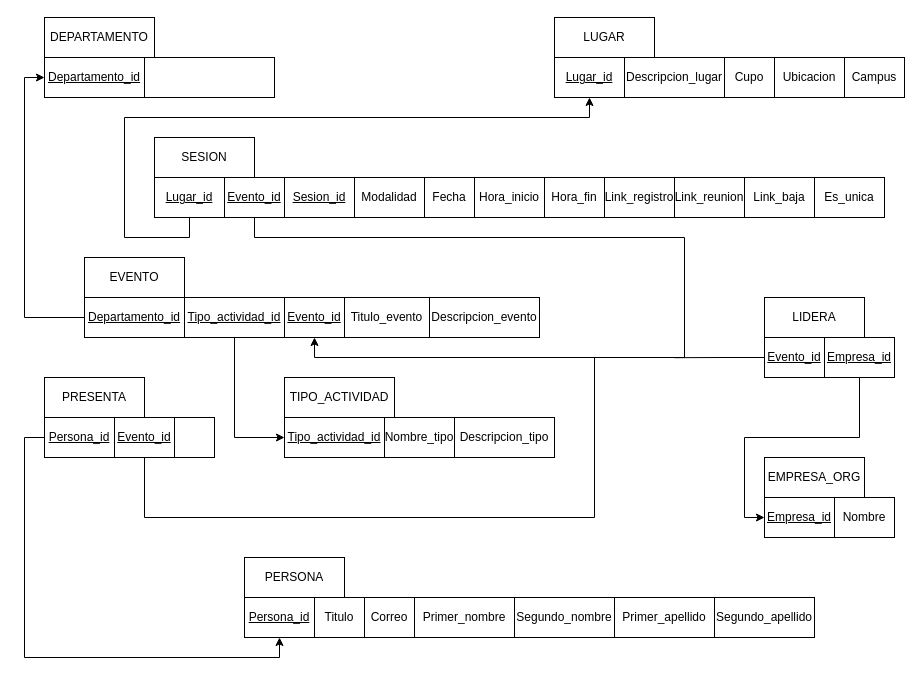
The diagram is 922 pixels wide and 683 high, and some of its shapes have lost their labels. The centre of each missing label's shape, as x and y in pixels:
"Nombre_departamento" belongs at (x=209, y=77).
"Rol" belongs at (x=194, y=437).
